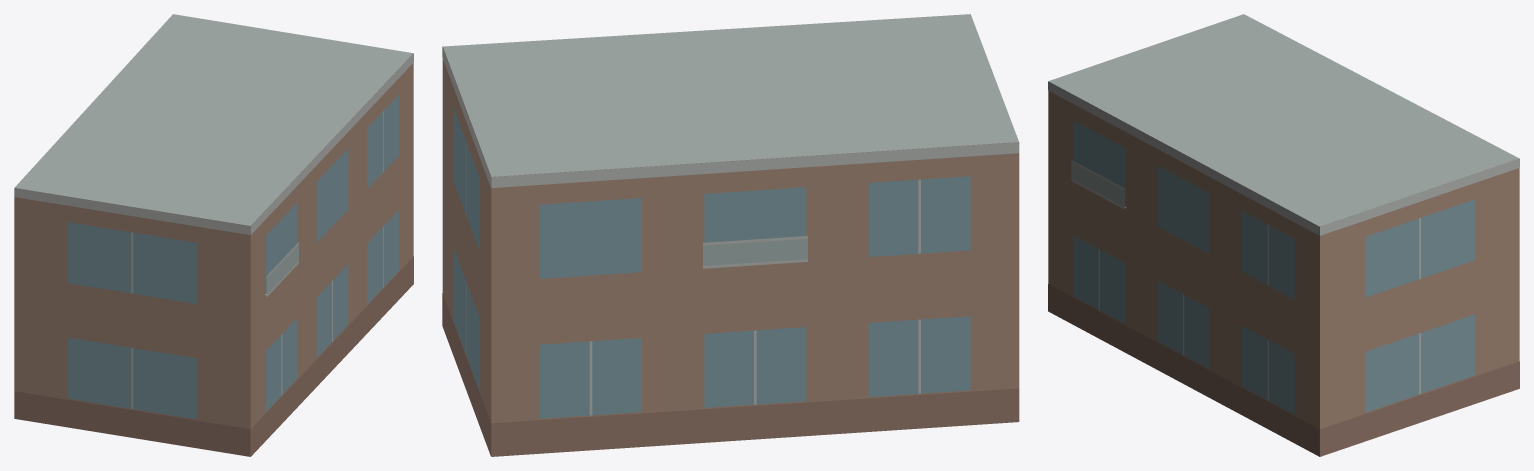
File: survey-upis-32655132.glb
3 renders of one model, left to right at view 1: azimuth 30°, elevation 25°; view 2: azimuth 150°, elevation 25°; view 3: azimuth 270°, elevation 25°, orthographic. The views are drawn at different scales.
Parts seen in each view (by area): view 1: survey-upis-32655132.tmp; view 2: survey-upis-32655132.tmp; view 3: survey-upis-32655132.tmp.
Part boxes in pixels (x1=…): survey-upis-32655132.tmp: x1=14, y1=14, x2=413, y2=456; survey-upis-32655132.tmp: x1=442, y1=14, x2=1019, y2=456; survey-upis-32655132.tmp: x1=1048, y1=14, x2=1519, y2=456.
Bounding box in the file's own units: 12.1 × 6.1 × 11.34.
